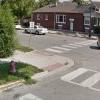Crosswalk: (32, 39, 99, 91)
